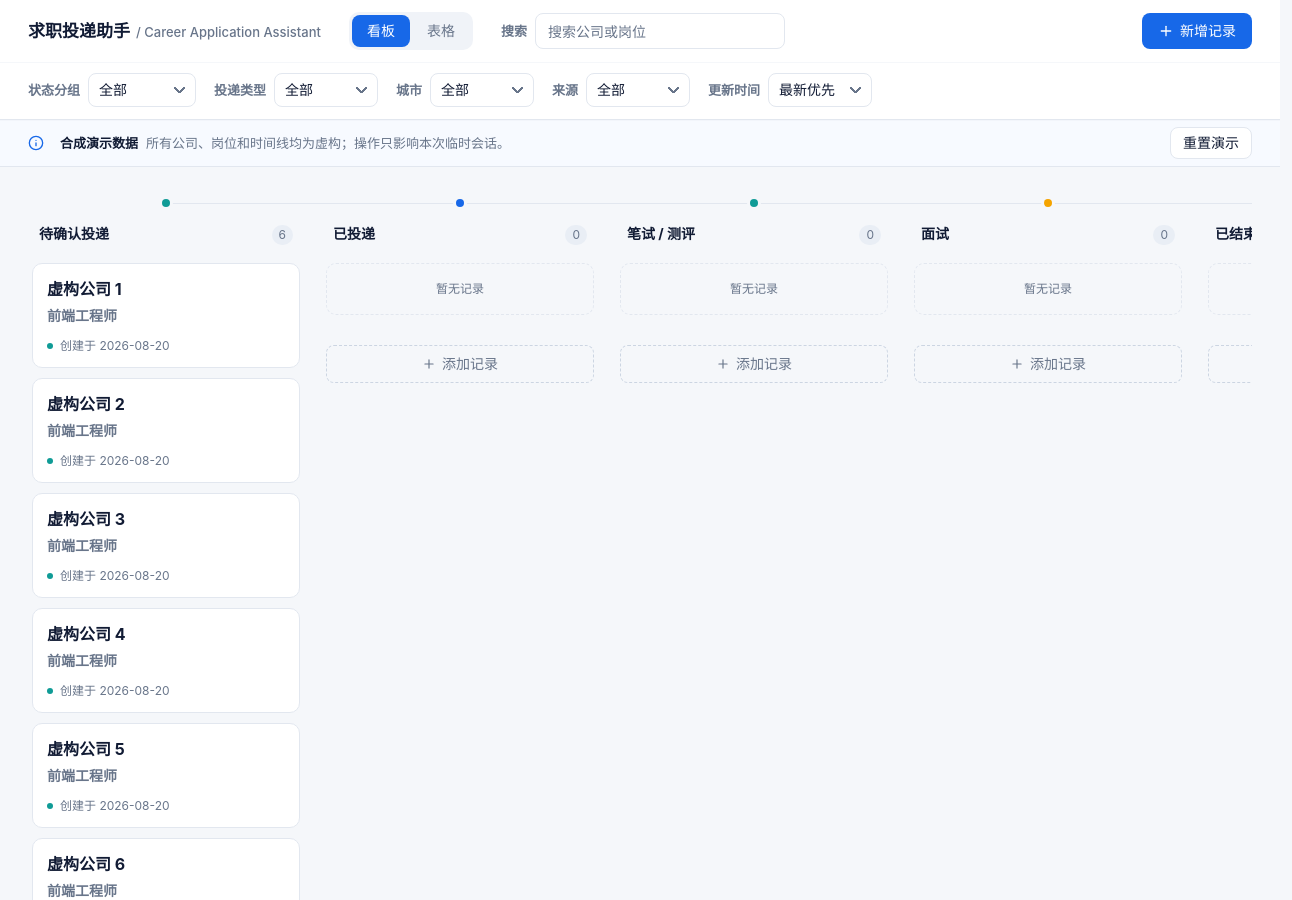
it: App 壳 › Demo 隐藏邮箱、归一化 mail URL，并可重置后刷新六条合成记录
Expected: the element with test id "demo-notice" shows "合成演示数据", top-left (60, 135), bottom-right (138, 151)
Click the button with test id "demo-reset" at x=1211, y=143, box top-left (1170, 127), bottom-right (1252, 159)
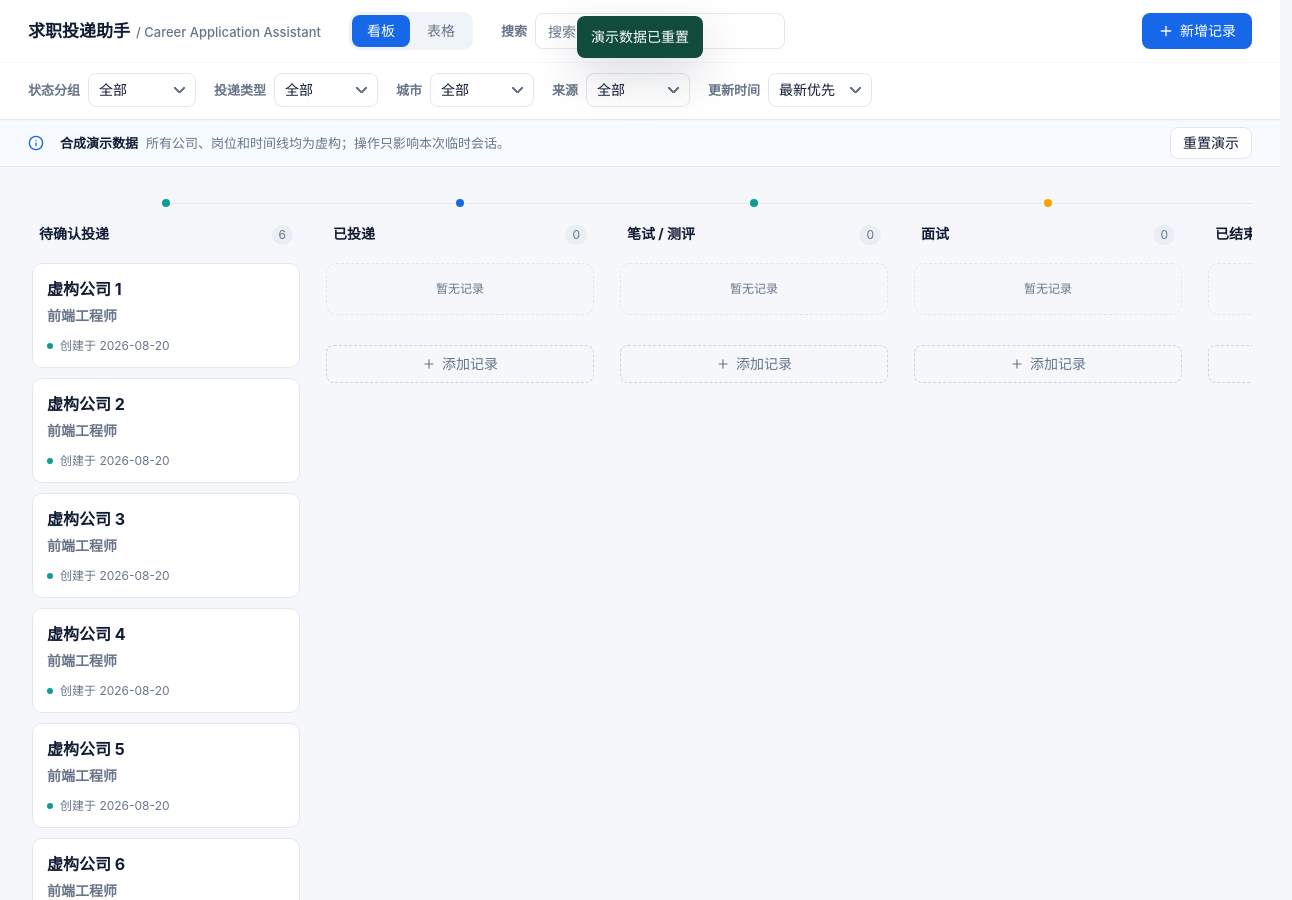
Expected: the text "演示数据已重置" is shown, top-left (577, 16), bottom-right (703, 58)
